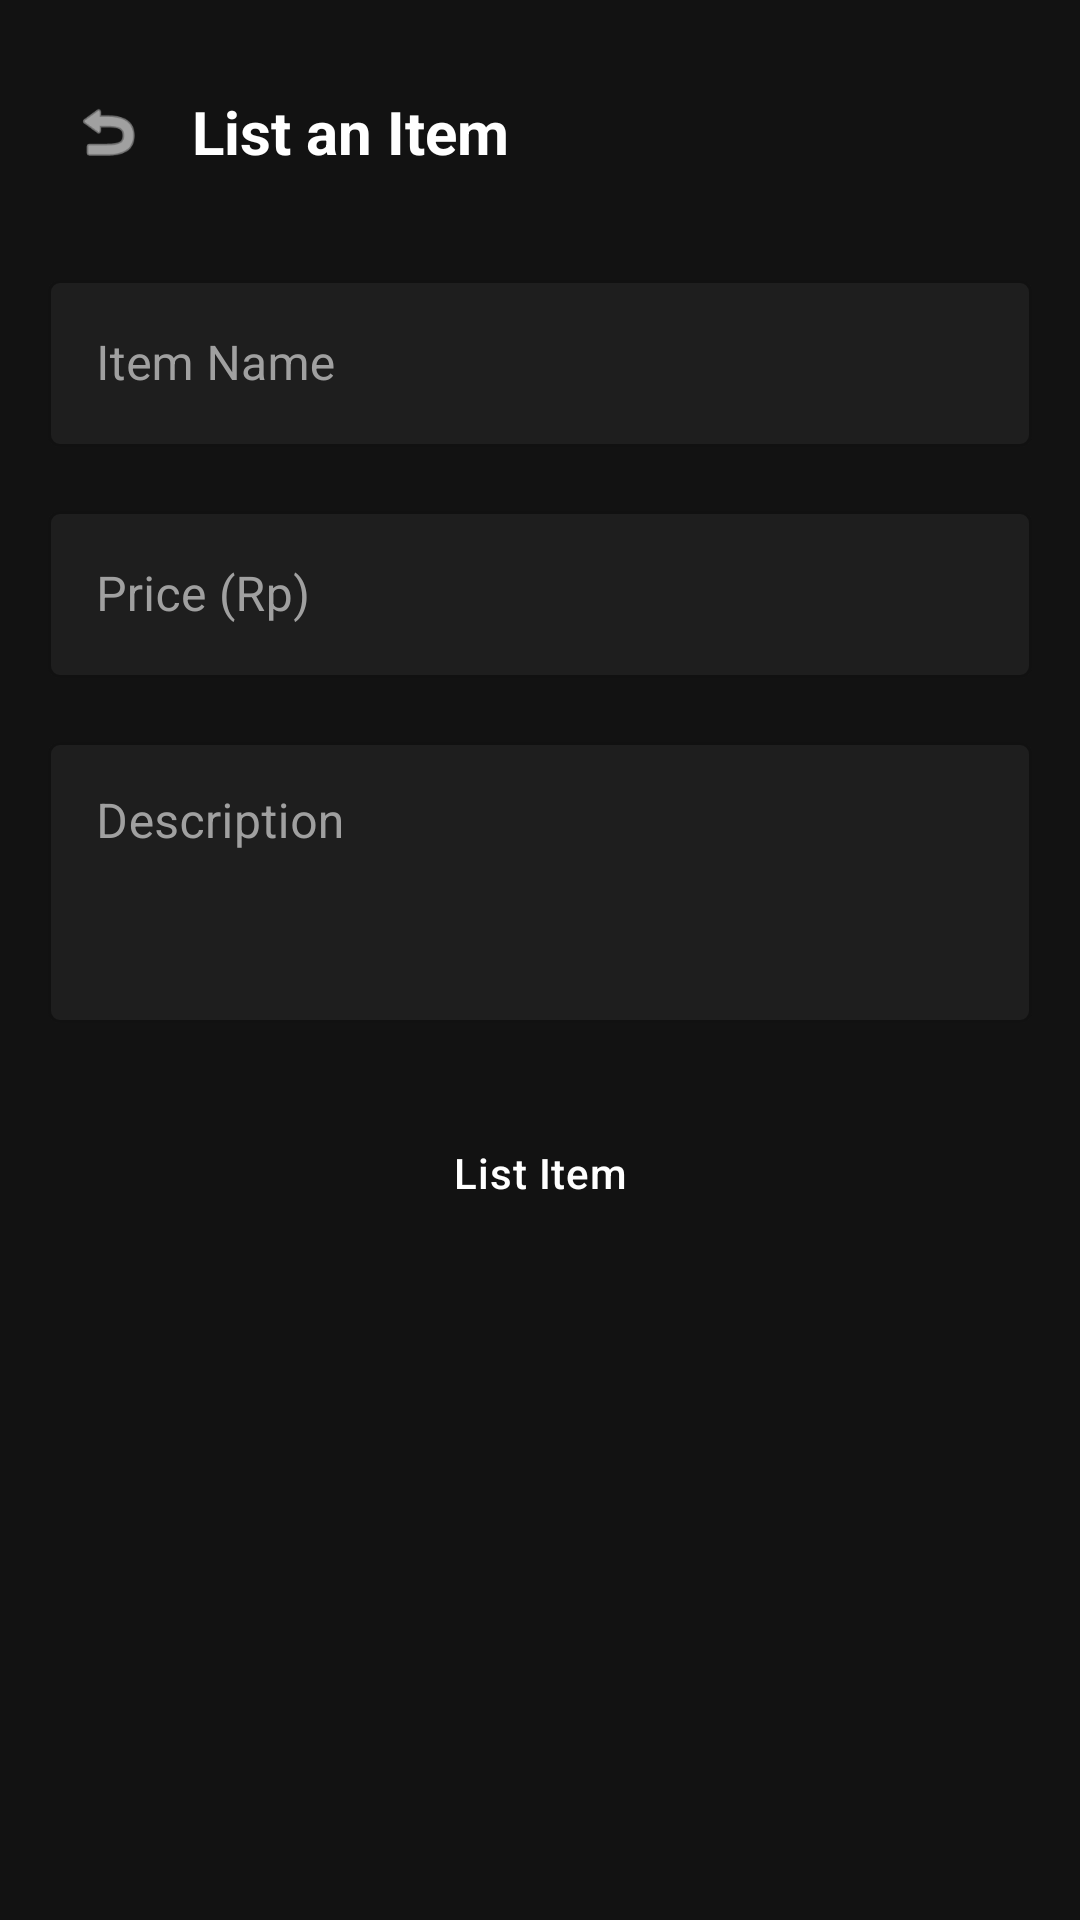

Icon bounding boxes for this 1080x1920 phone screenshot, format (x1, y1, x2, y2):
revert: (83, 109, 135, 156)
